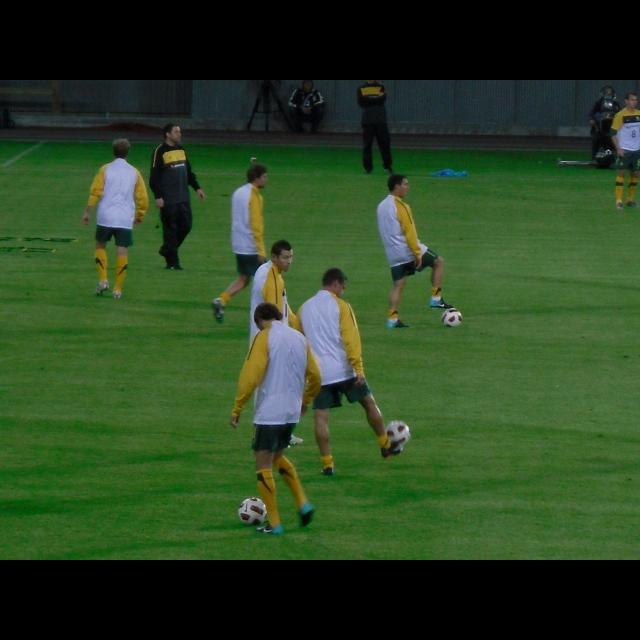Football: (234, 494, 266, 522), (386, 419, 410, 445), (438, 306, 464, 326)
